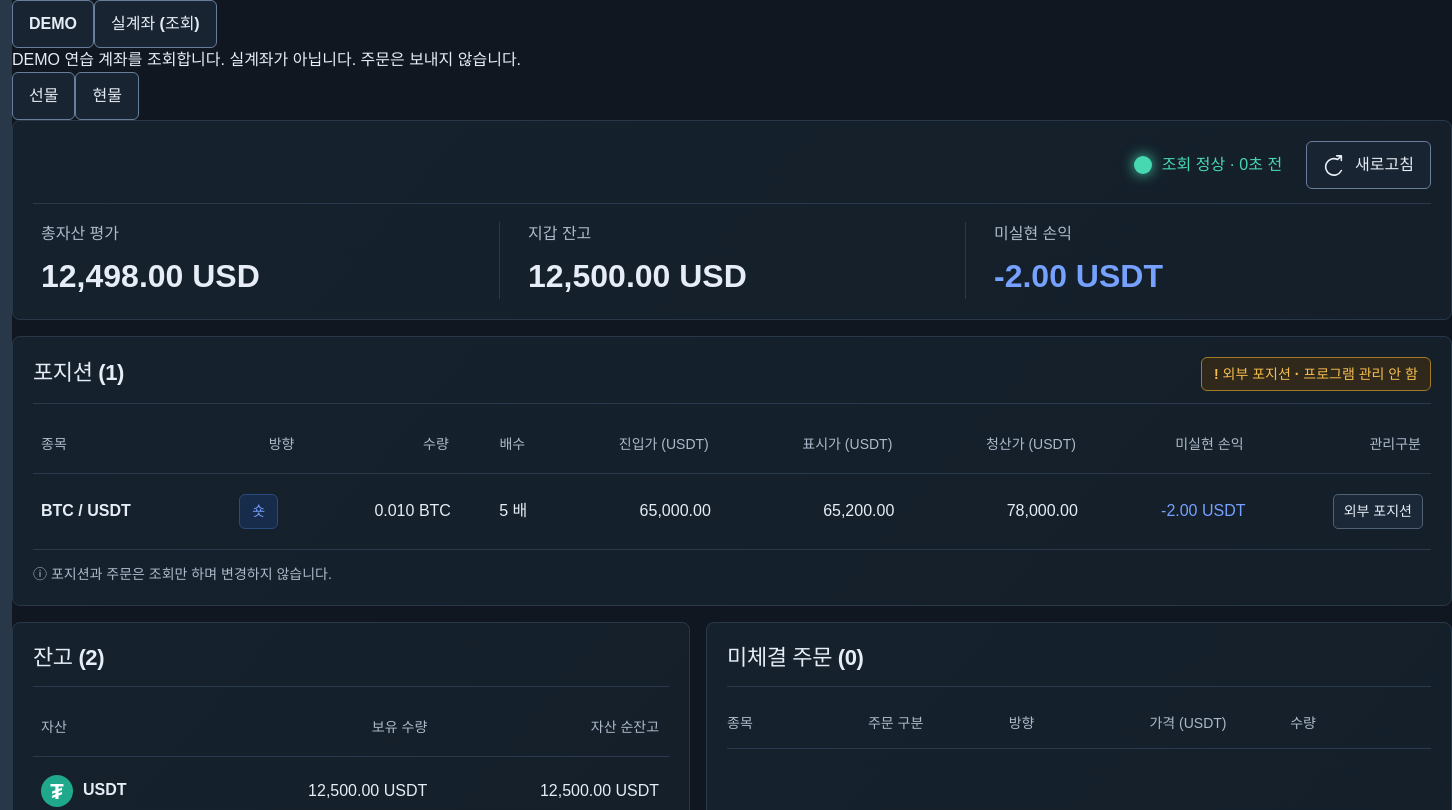
Scenario: keeps the original spot qty basis for BTCUSDT/quoteCoin without appending a guessed coin
Click the button "현물" at (107, 96), box [76,72,139,120]
(page scrolled)
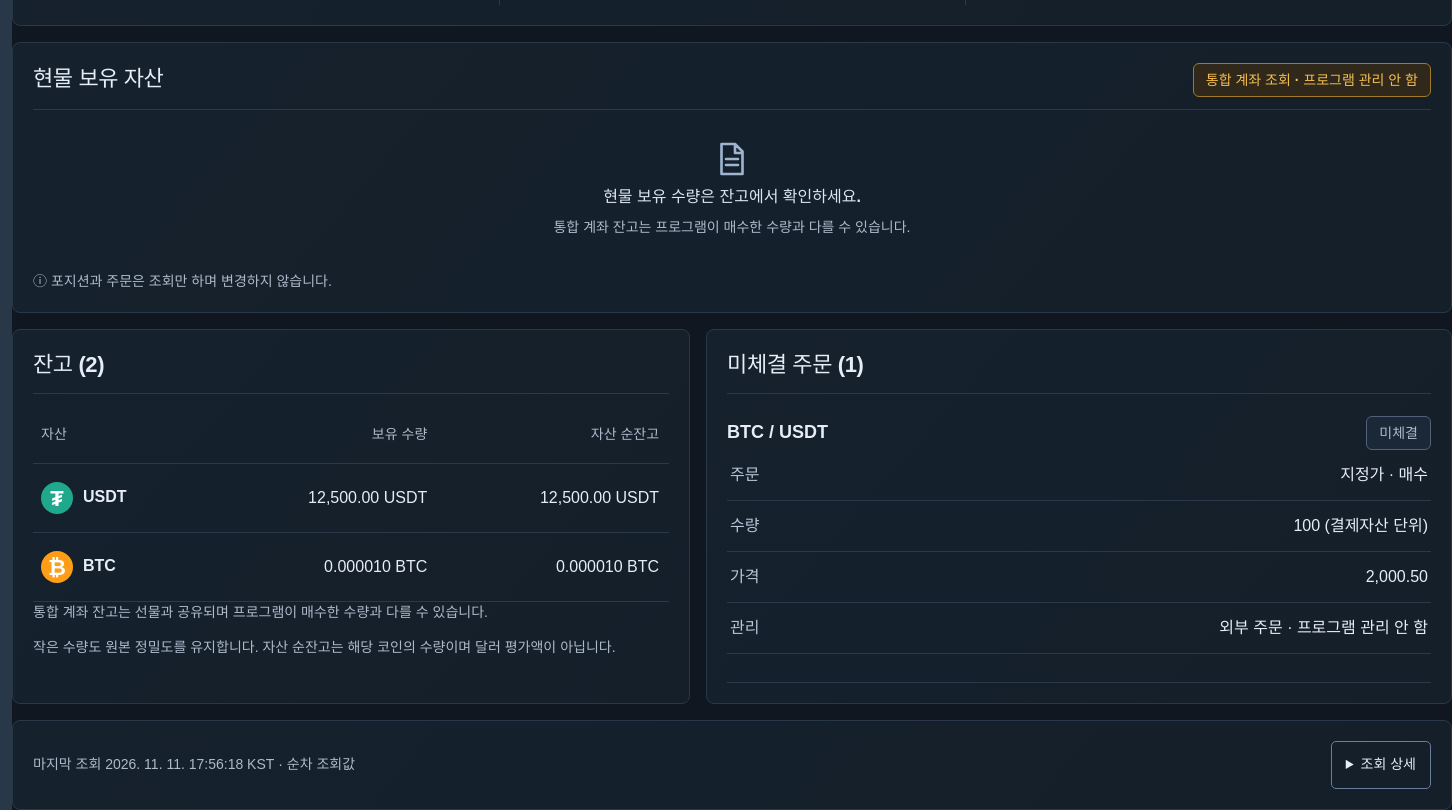
Now the text "100 (결제자산 단위)" is shown, box [1293,514,1428,538]
